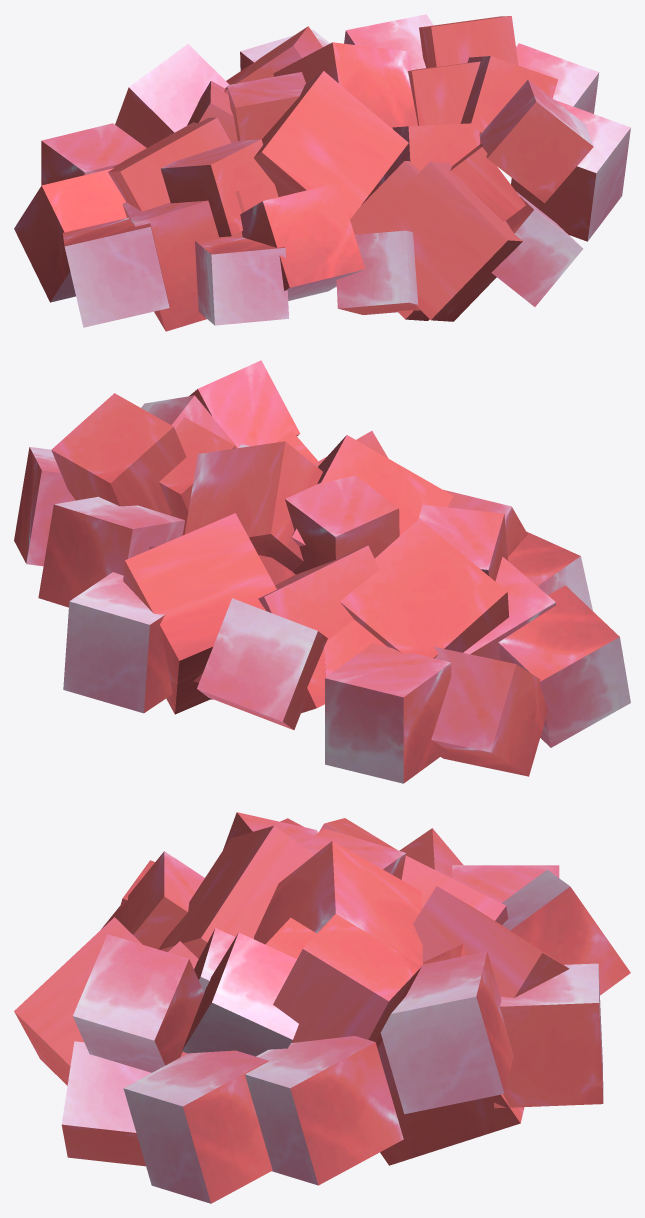
File: yingshi_2.fbx
The picture shows the model from 3 angles, top to bottom: view 1: azimuth 30°, elevation 25°; view 2: azimuth 150°, elevation 25°; view 3: azimuth 270°, elevation 25°; orthographic projection. The views are drawn at different scales.
Parts seen in each view (by area): view 1: polySurface70; view 2: polySurface70; view 3: polySurface70.
Boxes of the visible parts, bbox=[...] form: polySurface70: bbox=[14, 14, 630, 331]; polySurface70: bbox=[14, 360, 630, 783]; polySurface70: bbox=[14, 812, 630, 1203].
Size of the model in its own units: 13.69 by 6.05 by 11.01.
